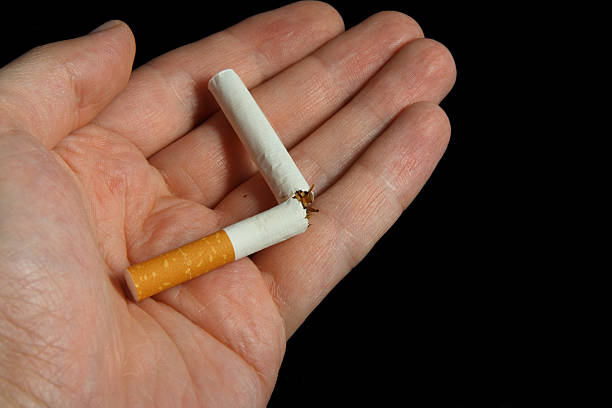cigarette: (122, 196, 310, 300), (207, 67, 314, 210)
